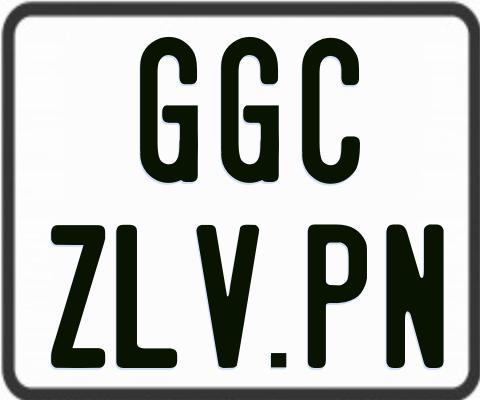C: (302, 35, 364, 187)
G: (220, 37, 283, 188), (140, 34, 199, 180)
L: (115, 223, 182, 370)
N: (385, 224, 447, 370)
P: (307, 222, 370, 365)
V: (195, 224, 260, 371)
Z: (49, 224, 105, 368)
